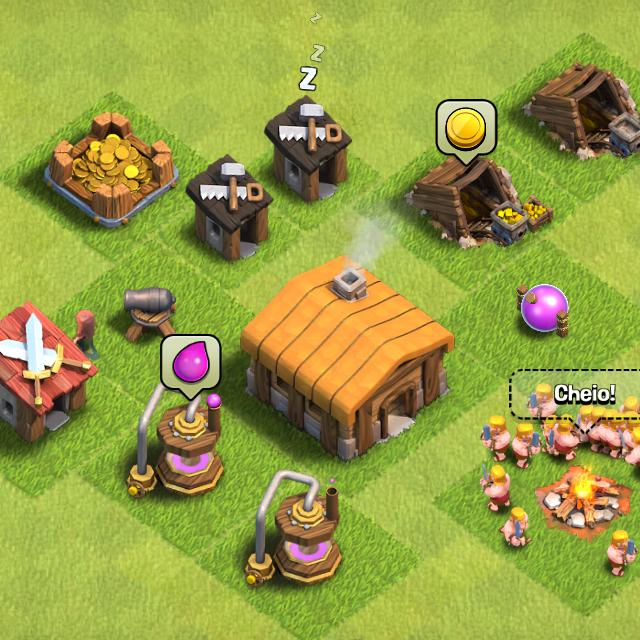Elixir: (158, 333, 226, 403)
coin: (434, 99, 498, 166)
